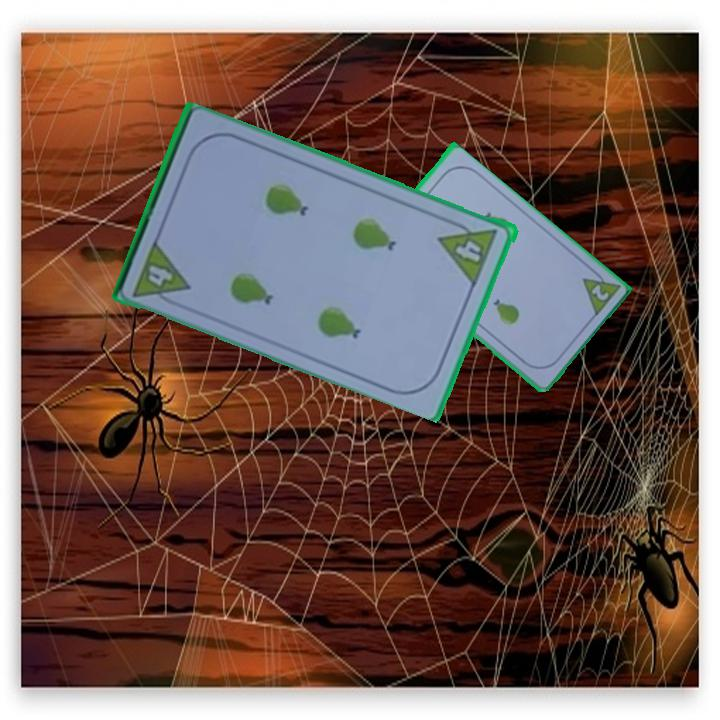2p: (578, 264, 622, 320)
4p: (436, 214, 502, 287), (130, 237, 194, 311)
